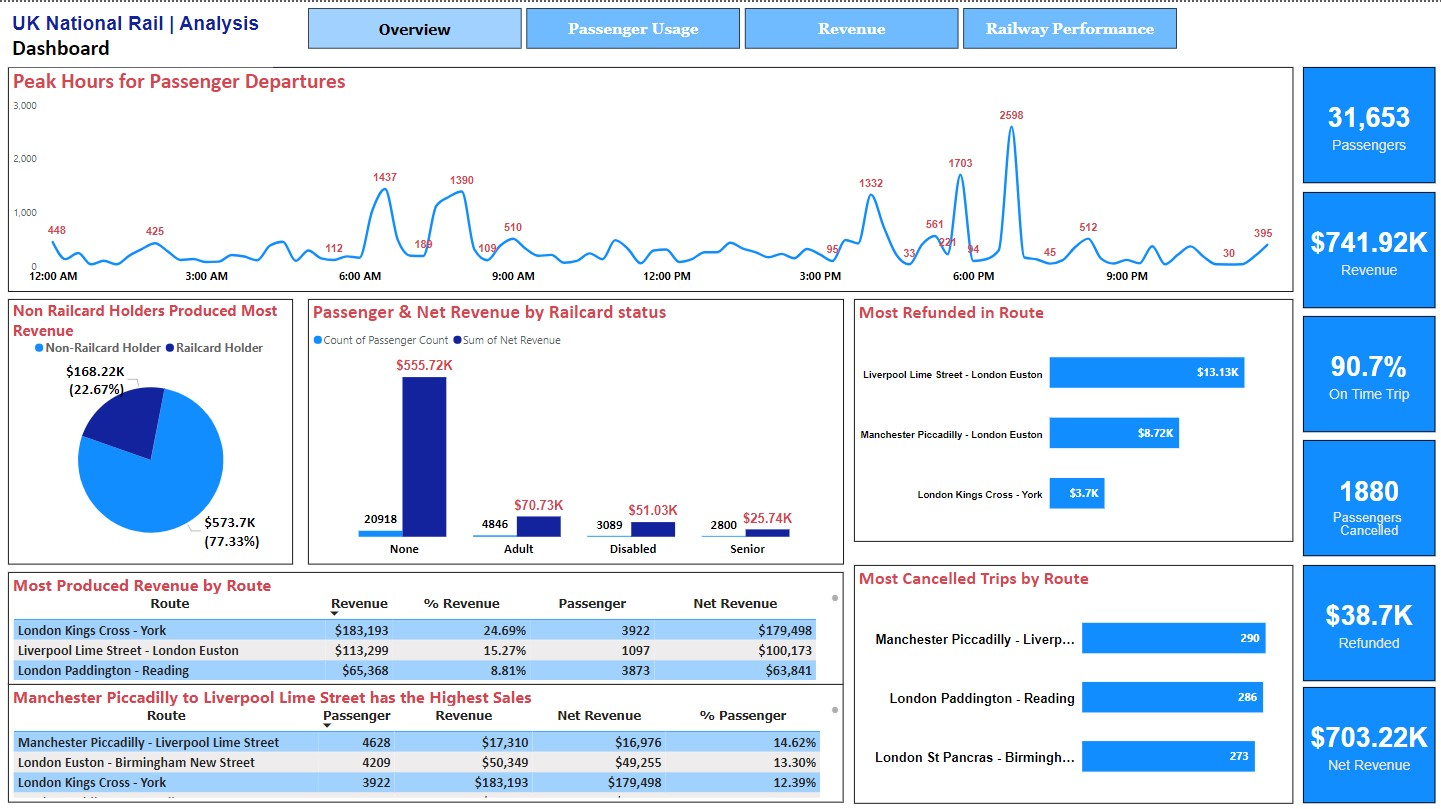

This screenshot's page, from the dashboard's own definition file:
{"tool":"powerbi","page":{"name":"Overview","canvas":[1780,1000],"ordinal":0},"visuals":[{"type":"card","fields":{"Values":["Sum(railway.Refunded)"]},"box":[1606.8,692.9,162.5,142.5],"z":0},{"type":"card","fields":{"Values":["Sum(railway.Price)"]},"box":[1606.8,234.1,162.5,142.5],"z":1000},{"type":"card","fields":{"Values":["CountNonNull(railway.Transaction ID)"]},"box":[1606.8,80.4,162.5,142.5],"z":2000},{"type":"card","fields":{"Values":["Sum(railway.Net Revenue)"]},"box":[1606.8,844.1,162.5,142.5],"z":3000},{"type":"card","fields":{"Values":["railway.On Time Trip"]},"box":[1606.8,386.6,162.5,142.5],"z":4000},{"type":"card","fields":{"Values":["CountNonNull(railway.Passengers Cancelled)"]},"box":[1606.8,539.1,162.5,142.5],"z":5000},{"type":"pageNavigator","title":"Uk Rail Dashboard","box":[381.8,7.4,1073,50.5],"z":6000},{"type":"pieChart","title":"Non Railcard Holders Produced Most Revenue","fields":{"Category":["railway.Railcard Status"],"Y":["Sum(railway.Price)"]},"box":[12.9,365.7,351.4,327.1],"z":7000},{"type":"tableEx","title":"Most Produced Revenue by Route","fields":{"Values":["railway.Route","Sum(railway.Price)","Divide(Sum(railway.Price), ScopedEval(Sum(railway.Price), []))","railway.Transaction ID","Sum(railway.Net Revenue)"]},"box":[12.9,701.4,1028.6,138.6],"z":8000},{"type":"tableEx","title":"Manchester Piccadilly to Liverpool Lime Street has the Highest Sales","fields":{"Values":["railway.Route","railway.Transaction ID","Sum(railway.Price)","Sum(railway.Net Revenue)","Sum(railway.Passenger Count)"]},"box":[12.9,840,1028.6,145.7],"z":9000},{"type":"lineChart","title":"Peak Hours for Passenger Departures","fields":{"Category":["railway.Departure Time"],"Y":["CountNonNull(railway.Passenger Count)"]},"box":[12.9,80,1582.9,277.1],"z":10000},{"type":"barChart","title":"Most Cancelled Trips by Route","fields":{"Category":["railway.Route"],"Y":["CountNonNull(railway.Cancelled Trips)"]},"box":[1054.3,692.9,541.4,294.3],"z":11000},{"type":"barChart","title":"Most Refunded in  Route","fields":{"Category":["railway.Route"],"Y":["Sum(railway.Refunded)"]},"box":[1054.3,365.7,541.4,298.6],"z":12000},{"type":"textbox","box":[12.9,7.1,325.7,72.9],"z":13000},{"type":"clusteredColumnChart","title":"Passenger & Net Revenue by Railcard status","fields":{"Category":["railway.Railcard"],"Y":["CountNonNull(railway.Passenger Count)","Sum(railway.Net Revenue)"]},"box":[381.4,365.7,660,327.1],"z":14000}]}

Visuals, with their boxes in screenshot pixels (x1, y1, x2, y2), scaled from the page's 1780x1000 canvas onto the 1441x809 screenshot:
card - Sum(railway.Refunded): bbox=[1301, 561, 1432, 676]
card - Sum(railway.Price): bbox=[1301, 189, 1432, 305]
card - CountNonNull(railway.Transaction ID): bbox=[1301, 65, 1432, 180]
card - Sum(railway.Net Revenue): bbox=[1301, 683, 1432, 798]
card - railway.On Time Trip: bbox=[1301, 313, 1432, 428]
card - CountNonNull(railway.Passengers Cancelled): bbox=[1301, 436, 1432, 551]
"Uk Rail Dashboard" pageNavigator: bbox=[309, 6, 1178, 47]
"Non Railcard Holders Produced Most Revenue" pieChart: bbox=[10, 296, 295, 560]
"Most Produced Revenue by Route" tableEx: bbox=[10, 567, 843, 680]
"Manchester Piccadilly to Liverpool Lime Street has the Highest Sales" tableEx: bbox=[10, 680, 843, 797]
"Peak Hours for Passenger Departures" lineChart: bbox=[10, 65, 1292, 289]
"Most Cancelled Trips by Route" barChart: bbox=[854, 561, 1292, 799]
"Most Refunded in  Route" barChart: bbox=[854, 296, 1292, 537]
textbox: bbox=[10, 6, 274, 65]
"Passenger & Net Revenue by Railcard status" clusteredColumnChart: bbox=[309, 296, 843, 560]
